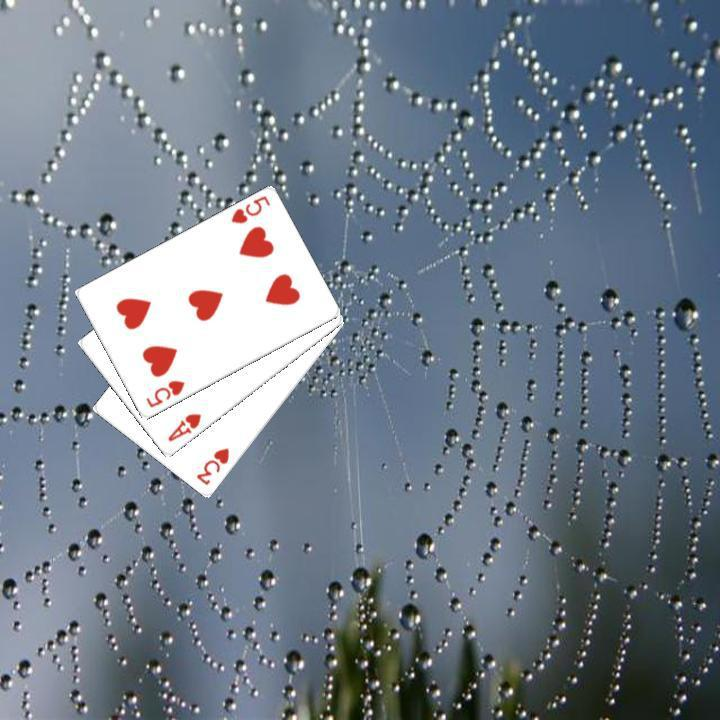3: (191, 444, 231, 488)
5: (226, 192, 272, 226), (141, 376, 186, 410)
A: (163, 409, 203, 444)
